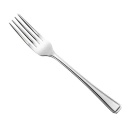fork: (7, 6, 126, 121)
